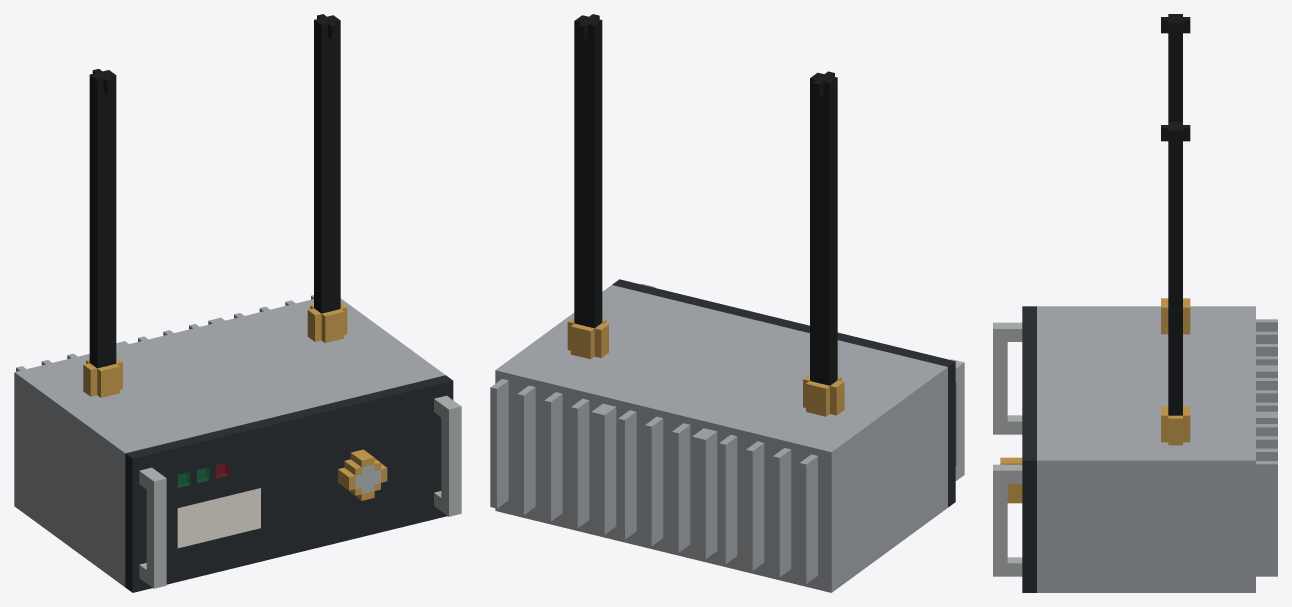
File: radio_repeater_mod.glb
3 views of the same model, side by side, from view 1: azimuth 30°, elevation 25°; view 2: azimuth 150°, elevation 25°; view 3: azimuth 270°, elevation 25° (orthographic). The views are drawn at different scales.
Parts seen in each view (by area): view 1: radio_repeater_mod:compound; view 2: radio_repeater_mod:compound; view 3: radio_repeater_mod:compound.
Part boxes in pixels (x1,y1,x2,y2): radio_repeater_mod:compound: (14,14,461,592); radio_repeater_mod:compound: (490,14,964,592); radio_repeater_mod:compound: (993,14,1277,592).
Size of the model in its own units: 0.2 by 0.268 by 0.156.
